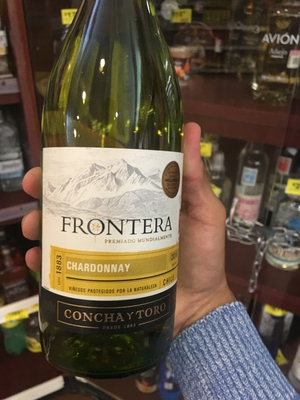frontera chardonnay: (30, 10, 204, 389)
